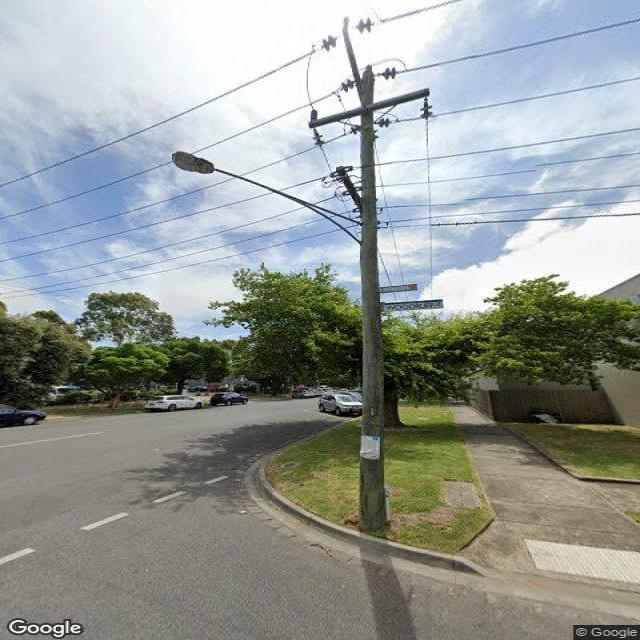HV-transmission: (309, 16, 433, 147)
crossarm: (309, 88, 430, 129), (342, 29, 364, 104), (335, 165, 364, 215)
streetlight: (171, 150, 364, 244)
timber-pole: (356, 65, 386, 532)
